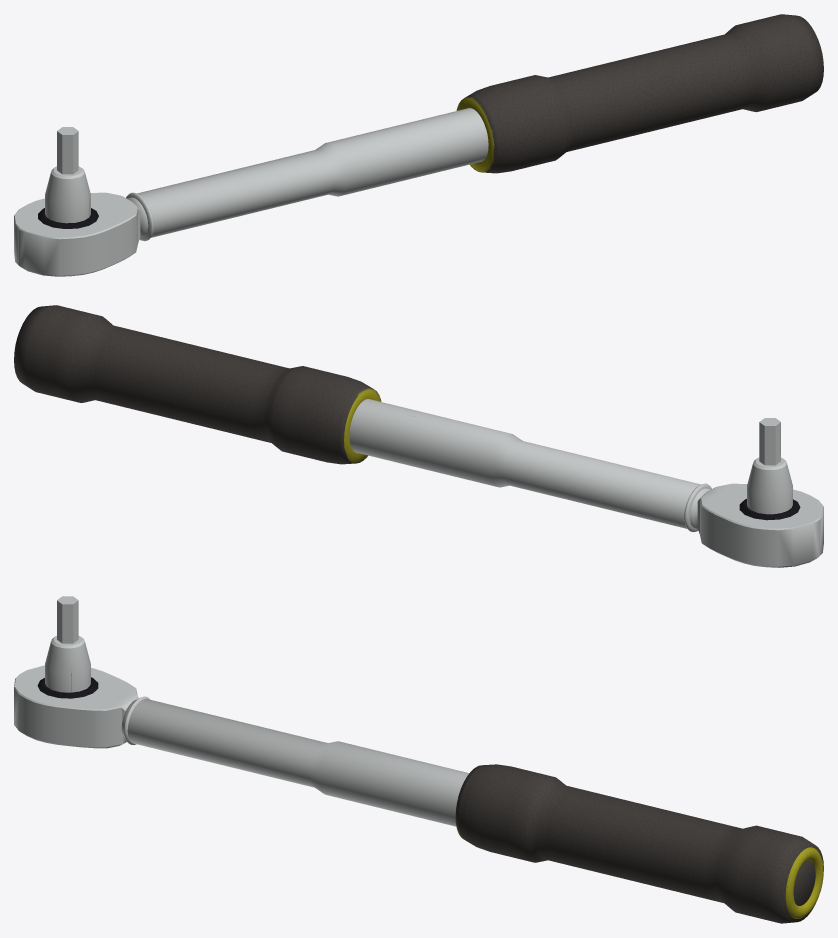
Rendered from Torque Wrench.fbx.
The picture shows the model from 3 angles, top to bottom: view 1: azimuth 30°, elevation 25°; view 2: azimuth 150°, elevation 25°; view 3: azimuth 330°, elevation 25°; orthographic projection.
Visible parts, largest first — view 1: Manico.001, Manico, Cube, Cylinder, 5mmBit.001, Cylinder.001; view 2: Manico.001, Manico, Cube, Cylinder, 5mmBit.001, Cylinder.001; view 3: Manico.001, Manico, Cube, Cylinder, 5mmBit.001.
Boxes of the visible parts, bbox=[...] form: Manico.001: bbox=[456, 14, 823, 173]; Manico: bbox=[126, 108, 488, 241]; Cube: bbox=[14, 192, 140, 276]; Cylinder: bbox=[45, 166, 90, 223]; 5mmBit.001: bbox=[57, 127, 78, 174]; Cylinder.001: bbox=[38, 208, 98, 228]; Manico.001: bbox=[14, 305, 381, 464]; Manico: bbox=[349, 399, 711, 532]; Cube: bbox=[697, 483, 823, 567]; Cylinder: bbox=[747, 457, 792, 514]; 5mmBit.001: bbox=[759, 418, 780, 465]; Cylinder.001: bbox=[739, 499, 800, 520]; Manico.001: bbox=[455, 764, 823, 923]; Manico: bbox=[121, 696, 469, 826]; Cube: bbox=[14, 665, 138, 748]; Cylinder: bbox=[45, 636, 90, 692]; 5mmBit.001: bbox=[57, 596, 78, 643].
Bounding box in the file's own units: 54.81 × 9.56 × 5.96.
Materials: 1 (1 with a texture image).
